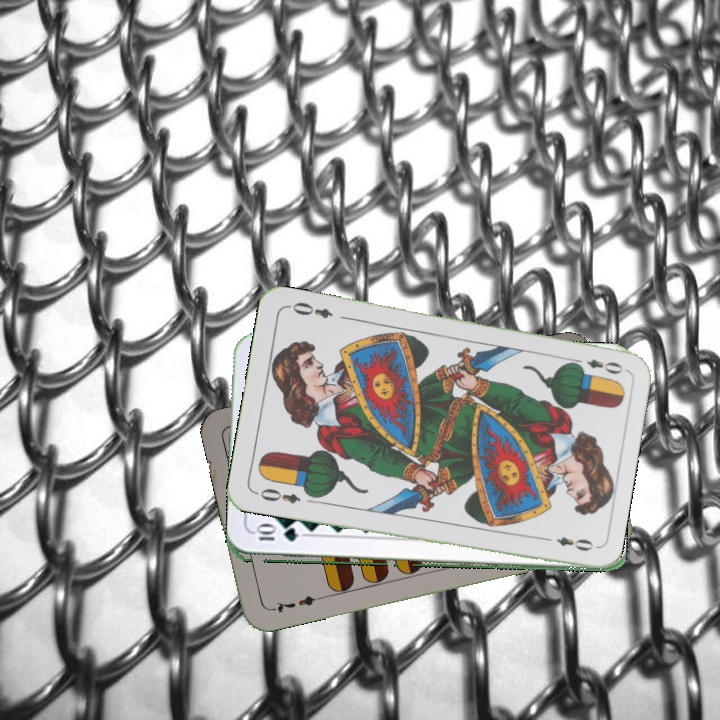E7: (266, 591, 325, 615)
EO: (568, 354, 626, 377), (251, 484, 303, 507)
G10: (251, 526, 300, 544)
